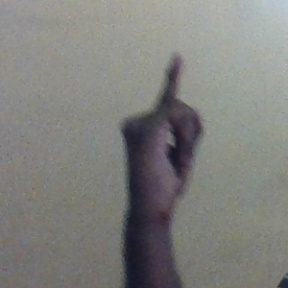I: (119, 52, 209, 208)
